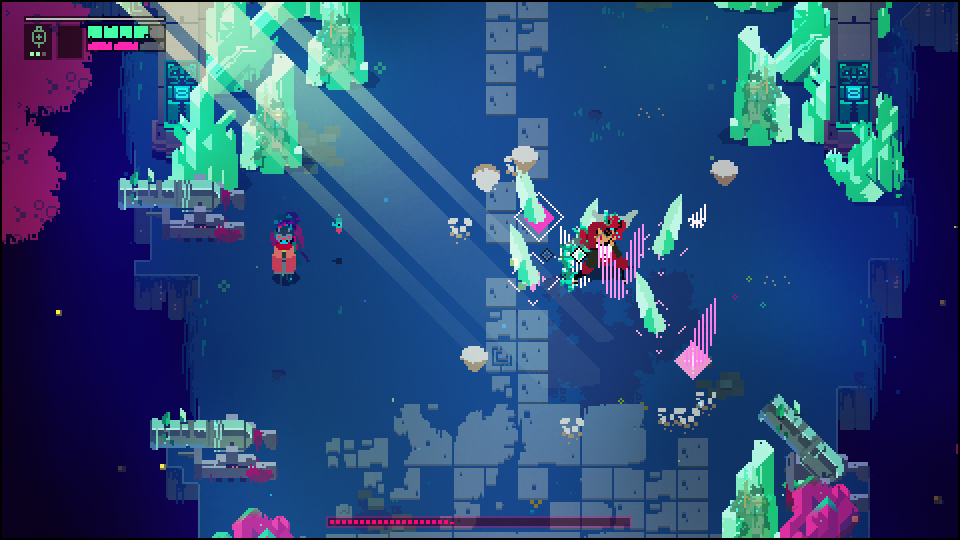hanged_crys: (515, 163, 549, 229), (506, 224, 540, 290), (632, 274, 666, 340), (654, 192, 688, 258), (681, 299, 715, 365)
hanged_man: (560, 198, 643, 292)
player: (270, 223, 298, 287)
